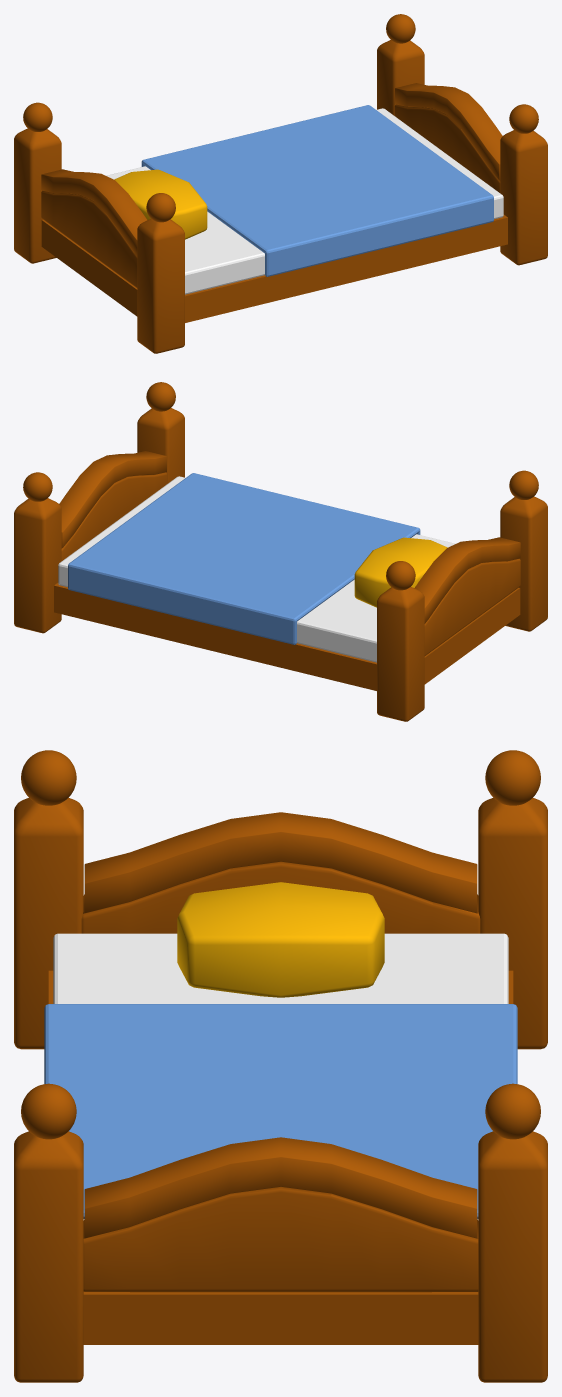
File: Bed.fbx
3 views of the same model, one above another, from view 1: azimuth 30°, elevation 25°; view 2: azimuth 150°, elevation 25°; view 3: azimuth 270°, elevation 25° (orthographic). The views are drawn at different scales.
Parts seen in each view (by area): view 1: Bed; view 2: Bed; view 3: Bed.
Part boxes in pixels (x1,y1,x2,y2): Bed: (14, 14, 547, 353); Bed: (14, 382, 547, 721); Bed: (14, 750, 547, 1382).
Bounding box in the file's own units: 3.7 × 2.3 × 1.35.
